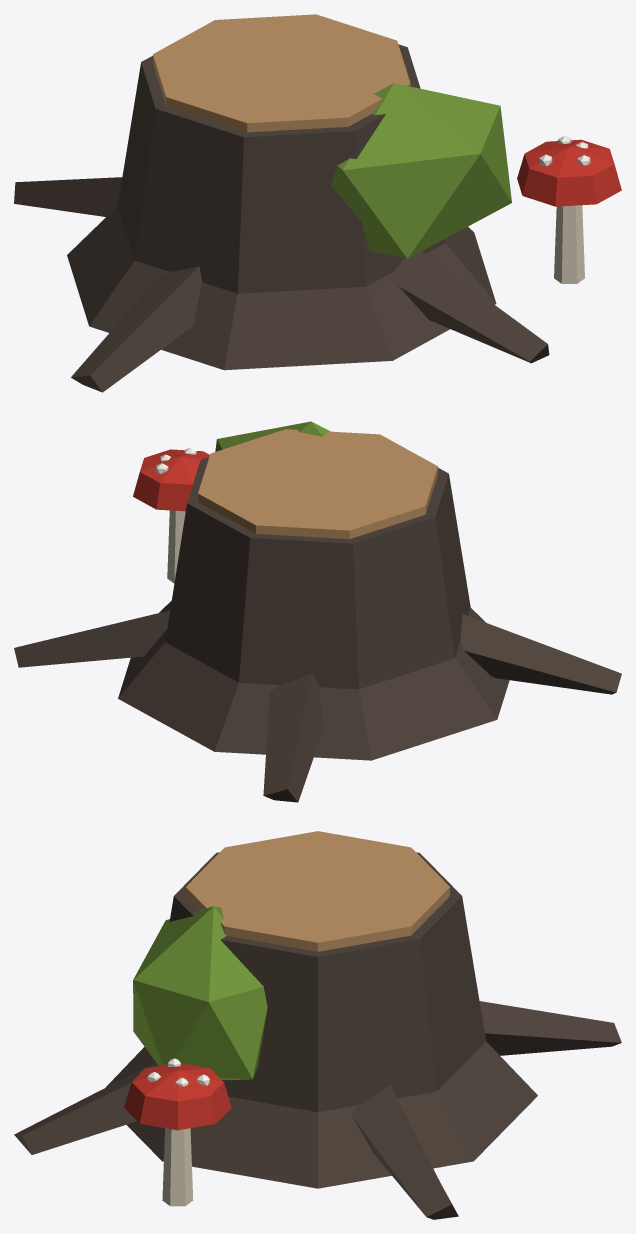
The model's file is forest_stump.glb.
3 views of the same model, one above another, from view 1: azimuth 30°, elevation 25°; view 2: azimuth 150°, elevation 25°; view 3: azimuth 270°, elevation 25° (orthographic). The views are drawn at different scales.
Parts seen in each view (by area): view 1: forest_stump; view 2: forest_stump; view 3: forest_stump.
Part boxes in pixels (x1,y1,x2,y2): forest_stump: (14,14,621,392); forest_stump: (14,421,621,802); forest_stump: (14,831,621,1219).
Size of the model in its own units: 1.52 by 0.6014 by 1.52.
